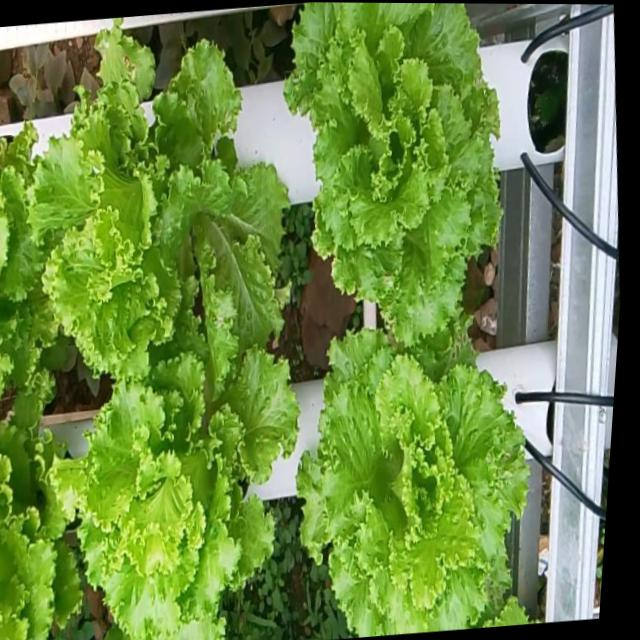Mature: (52, 39, 301, 371), (305, 313, 551, 634), (72, 338, 308, 640), (292, 2, 505, 333)
